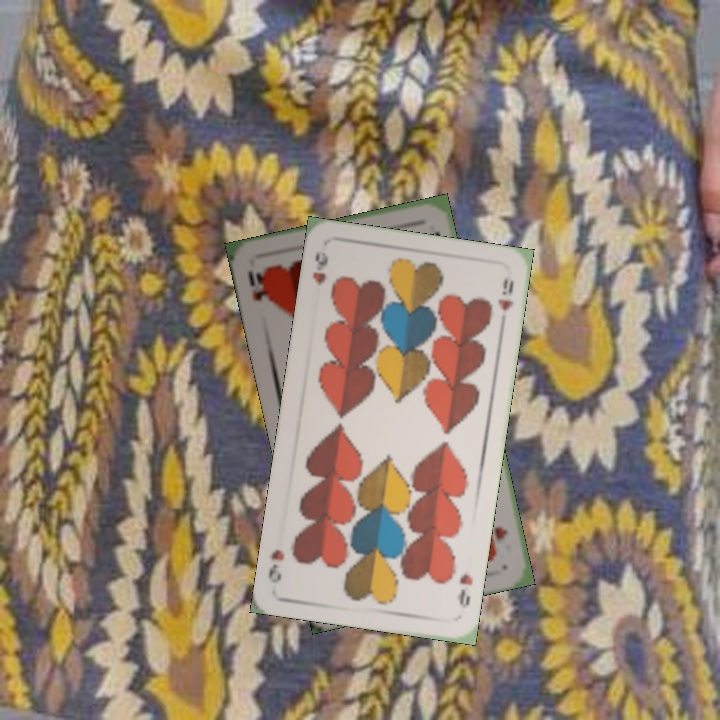H9: (308, 248, 331, 288), (454, 570, 476, 610)
HO: (244, 266, 272, 304), (486, 523, 510, 558)
